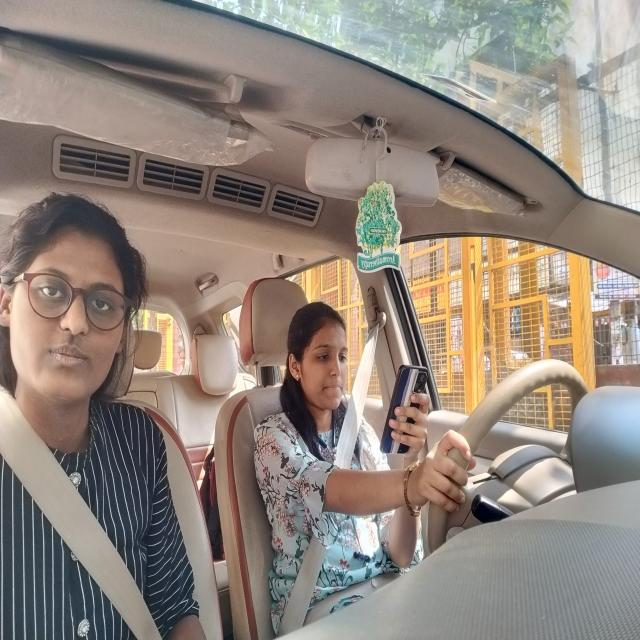mobile: (381, 336, 434, 482)
person: (1, 182, 152, 440), (276, 292, 360, 447)
